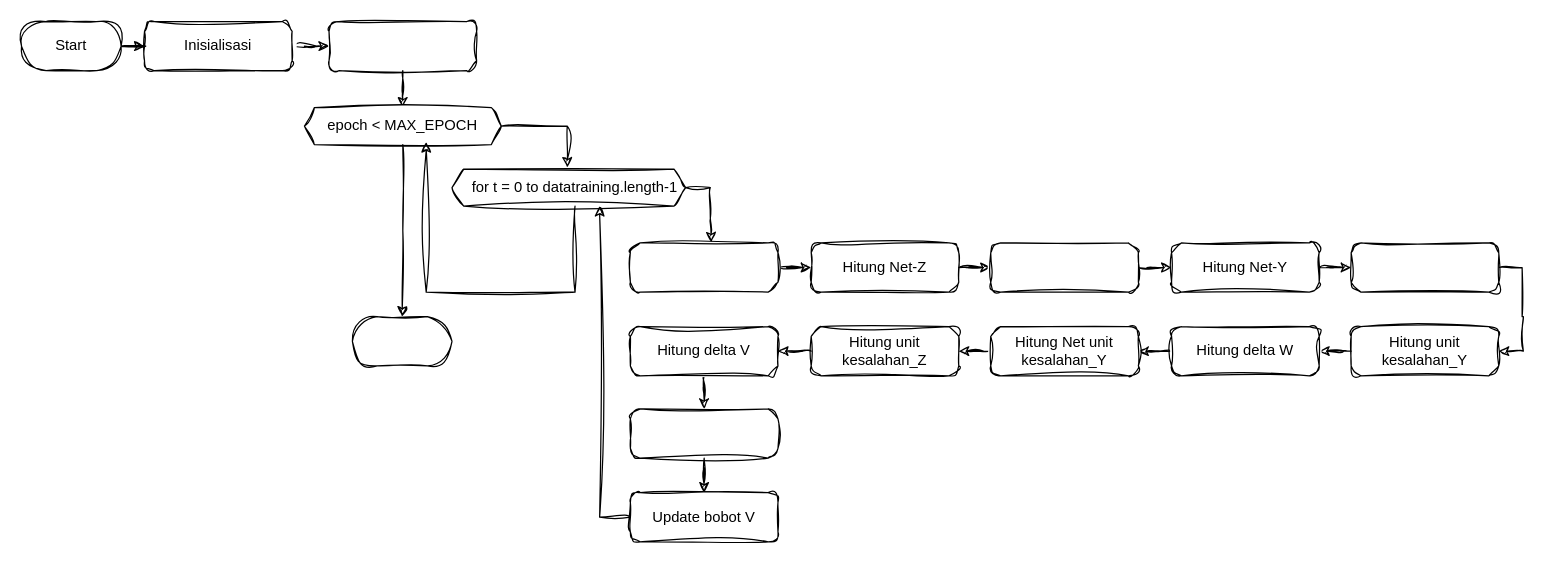
Image size: 1555x563. Some labels were removed from this diagram. The shapes that lost their labels are listed below. From the top down, each one's box as (x1, y1, x2, y2) in pixels, then its label:
(328, 20, 477, 71): epoch = 1
(629, 242, 778, 292): Inisialisasi Neuron Input dan Target
(990, 242, 1138, 292): Activation Z
(1350, 242, 1499, 292): Activation Y
(351, 315, 452, 366): Finish
(629, 408, 778, 458): Update bobot W
